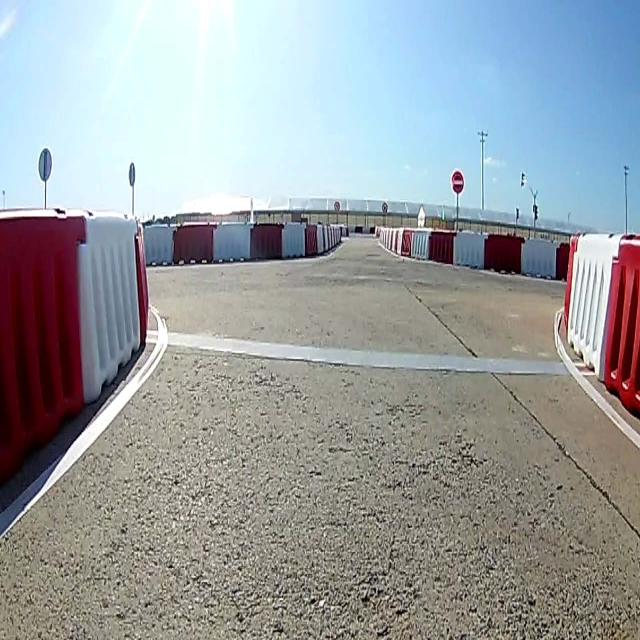girisyok: (450, 168, 465, 195)
